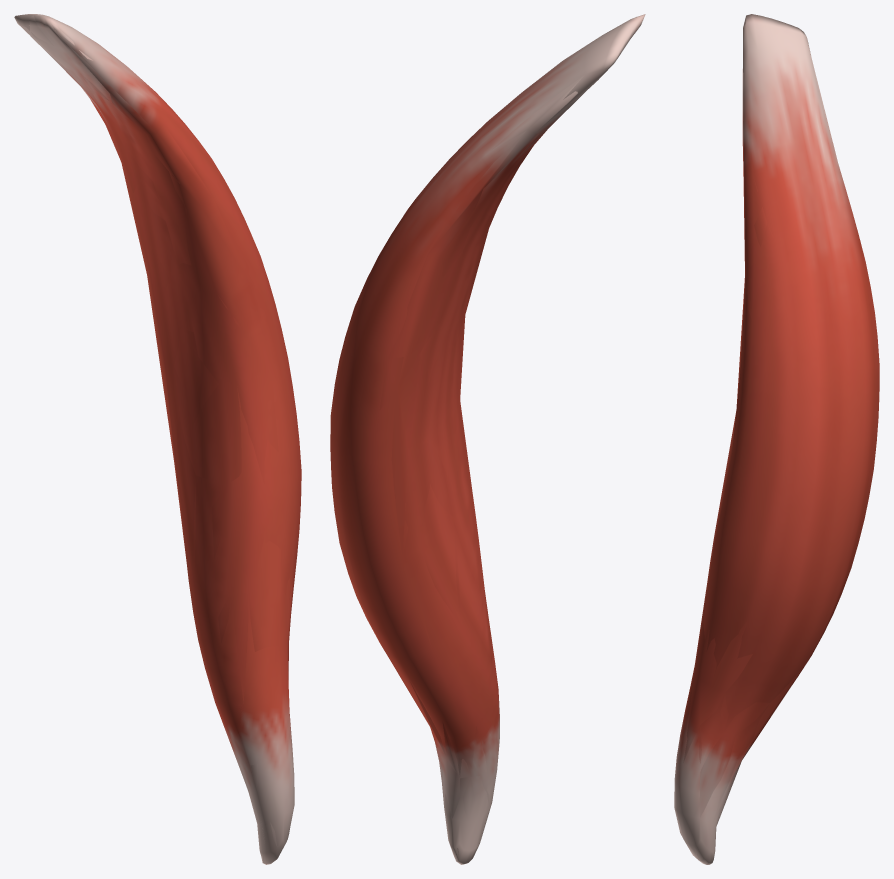
The model's file is L Semitendinosus.fbx.
3 views of the same model, side by side, from view 1: azimuth 30°, elevation 25°; view 2: azimuth 150°, elevation 25°; view 3: azimuth 270°, elevation 25° (orthographic). The views are drawn at different scales.
Parts seen in each view (by area): view 1: L Semitendinosus, L Semitendinosus low; view 2: L Semitendinosus, L Semitendinosus low; view 3: L Semitendinosus, L Semitendinosus low.
Part boxes in pixels (<box>): L Semitendinosus: <box>14,14,301,864</box>; L Semitendinosus low: <box>20,15,292,846</box>; L Semitendinosus: <box>330,14,645,864</box>; L Semitendinosus low: <box>376,14,643,864</box>; L Semitendinosus: <box>674,14,879,864</box>; L Semitendinosus low: <box>683,16,836,864</box>.
Size of the model in its own units: 9.16 by 28.9 by 7.02.
